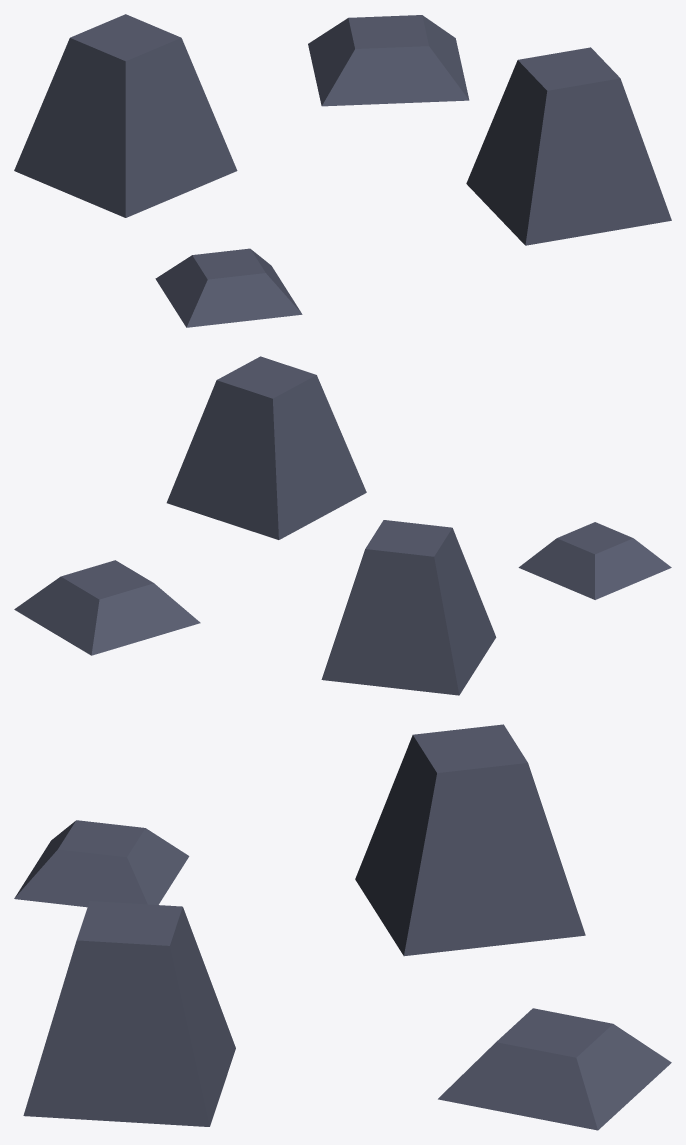
Rendered from rocks_smallB.glb.
The picture shows the model from 3 angles, top to bottom: view 1: azimuth 30°, elevation 25°; view 2: azimuth 150°, elevation 25°; view 3: azimuth 270°, elevation 25°; orthographic projection. The views are drawn at different scales.
Visible parts, largest first — view 1: rocks_smallB; view 2: rocks_smallB; view 3: rocks_smallB.
Boxes of the visible parts, left/top/right/bottom form: rocks_smallB: left=14, top=14, right=671, bottom=327; rocks_smallB: left=14, top=356, right=671, bottom=695; rocks_smallB: left=14, top=724, right=671, bottom=1130.
Size of the model in its own units: 0.7288 by 0.186 by 0.6988.
